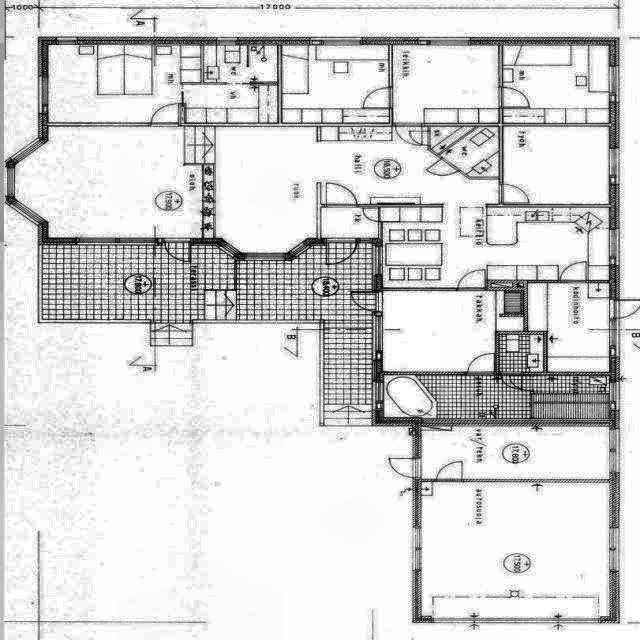room: (421, 482, 610, 619), (48, 45, 200, 123), (384, 375, 610, 419), (421, 427, 610, 479), (383, 291, 495, 372), (503, 45, 609, 123), (282, 45, 388, 123), (503, 126, 609, 204), (393, 45, 498, 123), (528, 283, 609, 372), (186, 85, 278, 123), (430, 127, 499, 177), (204, 45, 278, 82), (321, 208, 378, 238)
